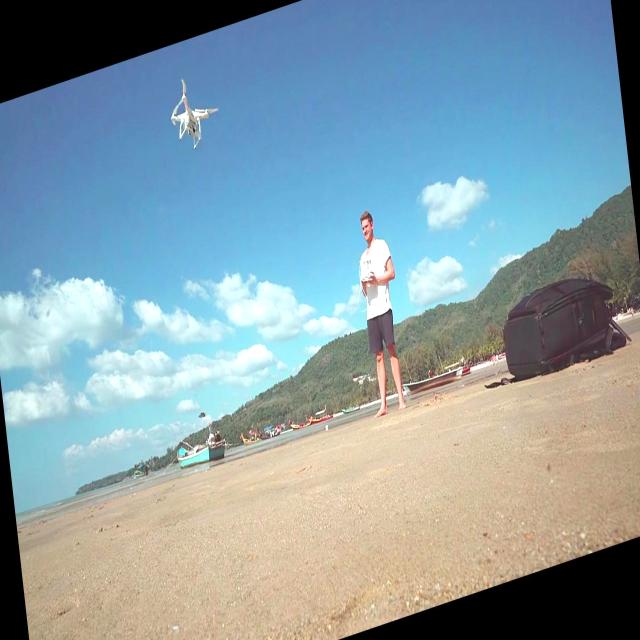drone: (166, 68, 217, 155)
